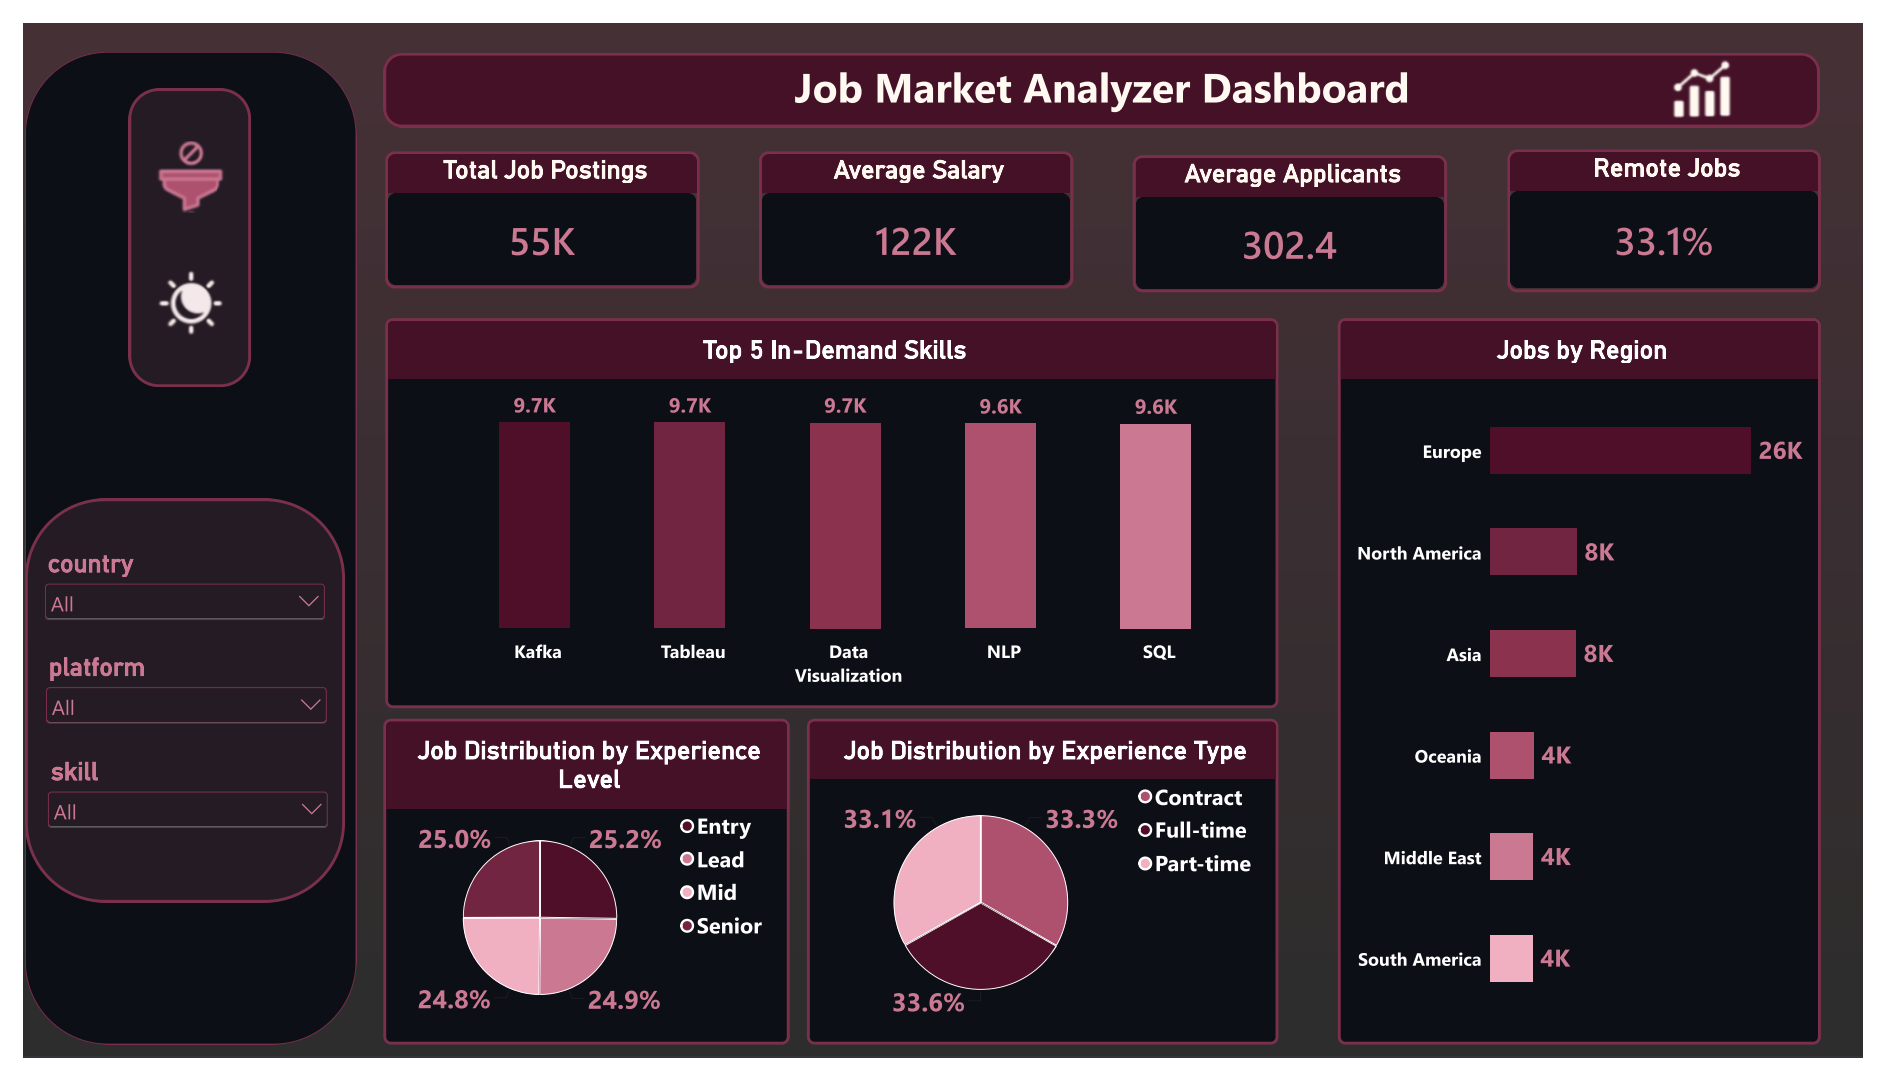

The page's visual inventory and layout, read from the dashboard file:
{"tool":"powerbi","page":{"name":"DarkMode","canvas":[1920,1080],"ordinal":0},"visuals":[{"type":"shape","box":[2,30,346,1036],"z":0,"group":"g3"},{"type":"shape","box":[376.4,30.8,1498.4,77.8],"z":0},{"type":"shape","box":[110,68,128,312],"z":0,"group":"g2"},{"type":"shape","box":[2,496,333.7,421.9],"z":0,"group":"g1"},{"type":"actionButton","box":[775.7,31.4,700.3,63.3],"z":1000},{"type":"group","id":"g1","title":"Group 1","box":[2,496,333.7,421.9],"z":1000,"group":"g3"},{"type":"slicer","fields":{"Values":["dim_country.country"]},"box":[18,548,302.2,99.4],"z":1000,"group":"g1"},{"type":"actionButton","box":[1712,34,80,72.5],"z":2000},{"type":"group","id":"g2","title":"Group 2","box":[110,68,128,312],"z":2000,"group":"g3"},{"type":"slicer","fields":{"Values":["dim_platform.platform"]},"box":[19.5,656.3,302.2,99.4],"z":2000,"group":"g1"},{"type":"cardVisual","title":"Total Job Postings","fields":{"Data":["Count(fact_job_postings.job_id)"]},"box":[378,134,327.5,143],"z":3000},{"type":"actionButton","box":[112,250,126,84],"z":3000,"group":"g3"},{"type":"slicer","fields":{"Values":["dim_skill.skill"]},"box":[21.2,764.5,302.2,99.4],"z":3000,"group":"g1"},{"type":"cardVisual","title":"Average Applicants","fields":{"Data":["Avg(fact_job_postings.applicants_estimate)"]},"box":[1158.4,137.9,327.5,143],"z":4000},{"type":"cardVisual","title":"Average Salary","fields":{"Data":["Avg(fact_job_postings 1(in) (5).average_salary_usd)"]},"box":[768.1,134.3,327.5,143],"z":5000},{"type":"cardVisual","title":"Remote Jobs","fields":{"Data":["bridge_job_skills 1(in) (1).% Remote Jobs"]},"box":[1548.7,132.5,327.5,148.4],"z":6000},{"type":"barChart","title":"Jobs by Region","fields":{"Category":["dim_country(in).region"],"Y":["CountNonNull(fact_job_postings 1(in) (5).job_id)"]},"box":[1372,308,504,758],"z":7000},{"type":"pieChart","title":"Job Distribution by Experience Level","fields":{"Category":["fact_job_postings.experience_level"],"Y":["Count(fact_job_postings 1(in) (5).job_id)"]},"box":[376,726,424,340],"z":8000},{"type":"clusteredColumnChart","title":"Top 5 In-Demand Skills","fields":{"Category":["dim_skill.skill"],"Y":["CountNonNull(bridge_job_skills.skill_id )"]},"box":[378.2,307.6,932,407.2],"z":9000},{"type":"pieChart","title":"Job Distribution by Experience Type","fields":{"Category":["fact_job_postings.employment_type"],"Y":["Count(fact_job_postings 1(in) (5).job_id)"]},"box":[818,726,492,340],"z":11000},{"type":"group","id":"g3","title":"Group 3","box":[2,30,346,1036],"z":12000},{"type":"actionButton","title":"unfilter_dark","box":[112,114,126,92],"z":14000}]}

Visuals, with their boxes in screenshot pixels (x1, y1, x2, y2), scaled from the page's 1920x1080 canvas onto the 1885x1081 screenshot:
shape: x1=2 y1=30 x2=342 y2=1067
shape: x1=370 y1=31 x2=1841 y2=109
shape: x1=108 y1=68 x2=234 y2=380
shape: x1=2 y1=496 x2=330 y2=919
actionButton: x1=762 y1=31 x2=1449 y2=95
"Group 1" group: x1=2 y1=496 x2=330 y2=919
slicer - dim_country.country: x1=18 y1=549 x2=314 y2=648
actionButton: x1=1681 y1=34 x2=1759 y2=107
"Group 2" group: x1=108 y1=68 x2=234 y2=380
slicer - dim_platform.platform: x1=19 y1=657 x2=316 y2=756
"Total Job Postings" cardVisual: x1=371 y1=134 x2=693 y2=277
actionButton: x1=110 y1=250 x2=234 y2=334
slicer - dim_skill.skill: x1=21 y1=765 x2=318 y2=865
"Average Applicants" cardVisual: x1=1137 y1=138 x2=1459 y2=281
"Average Salary" cardVisual: x1=754 y1=134 x2=1076 y2=278
"Remote Jobs" cardVisual: x1=1520 y1=133 x2=1842 y2=281
"Jobs by Region" barChart: x1=1347 y1=308 x2=1842 y2=1067
"Job Distribution by Experience Level" pieChart: x1=369 y1=727 x2=785 y2=1067
"Top 5 In-Demand Skills" clusteredColumnChart: x1=371 y1=308 x2=1286 y2=715
"Job Distribution by Experience Type" pieChart: x1=803 y1=727 x2=1286 y2=1067
"Group 3" group: x1=2 y1=30 x2=342 y2=1067
"unfilter_dark" actionButton: x1=110 y1=114 x2=234 y2=206
